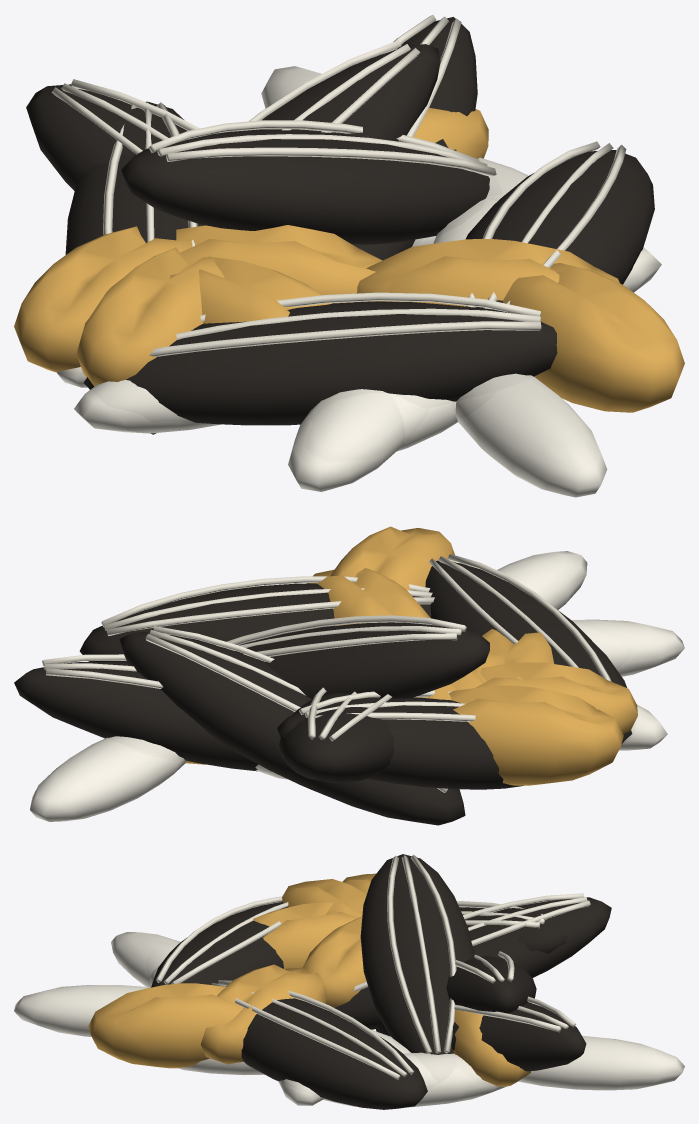
The model's file is nest-seedstash.glb.
3 views of the same model, one above another, from view 1: azimuth 30°, elevation 25°; view 2: azimuth 150°, elevation 25°; view 3: azimuth 270°, elevation 25° (orthographic). The views are drawn at different scales.
Parts seen in each view (by area): view 1: SeedStash__Sunflower, SeedStash__Wheat, SeedStash__Rice, SeedStash__SeedStripes; view 2: SeedStash__Sunflower, SeedStash__Wheat, SeedStash__SeedStripes, SeedStash__Rice; view 3: SeedStash__Sunflower, SeedStash__Wheat, SeedStash__Rice, SeedStash__SeedStripes.
Boxes of the visible parts, x1,y1,x2,y2 form: SeedStash__Sunflower: [26, 17, 654, 434]; SeedStash__Wheat: [14, 108, 684, 412]; SeedStash__Rice: [57, 66, 661, 497]; SeedStash__SeedStripes: [51, 14, 626, 356]; SeedStash__Sunflower: [14, 560, 632, 825]; SeedStash__Wheat: [185, 526, 637, 785]; SeedStash__SeedStripes: [42, 554, 611, 792]; SeedStash__Rice: [30, 551, 684, 821]; SeedStash__Sunflower: [151, 854, 611, 1109]; SeedStash__Wheat: [88, 873, 531, 1086]; SeedStash__Rice: [14, 932, 684, 1107]; SeedStash__SeedStripes: [156, 854, 590, 1079].
Bounding box in the file's own units: 15.77 × 5.03 × 21.03.
